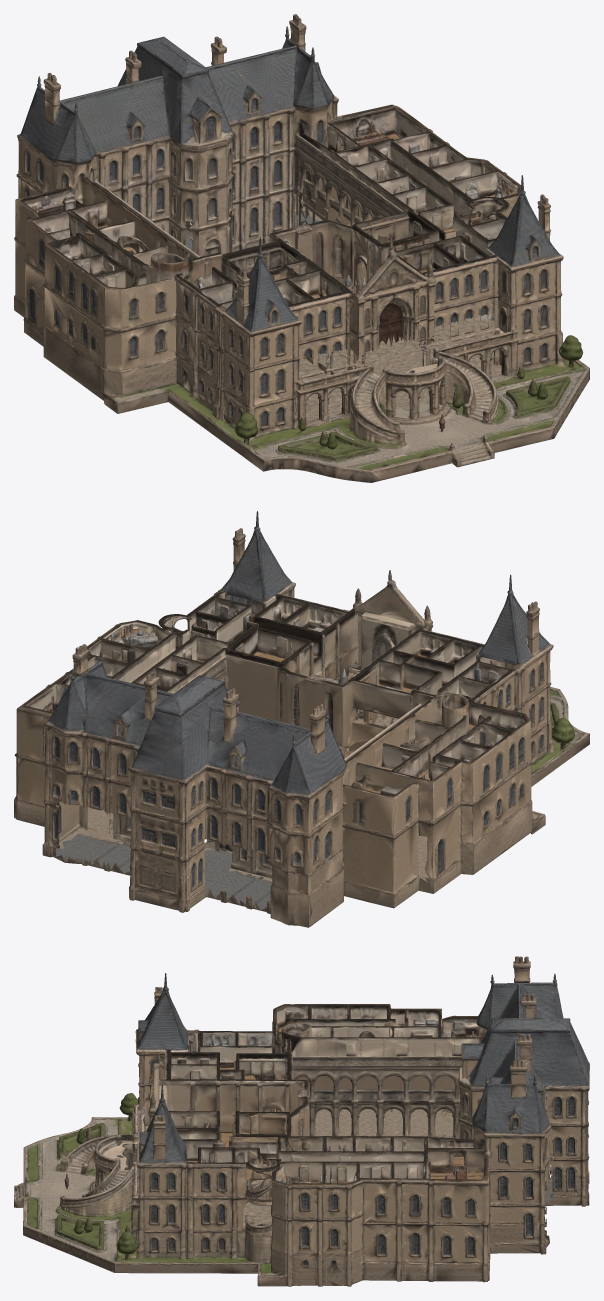
File: Meshy_AI_Make_a_map_for_my_gam_1022164321_texture.glb
The picture shows the model from 3 angles, top to bottom: view 1: azimuth 30°, elevation 25°; view 2: azimuth 150°, elevation 25°; view 3: azimuth 270°, elevation 25°; orthographic projection. The views are drawn at different scales.
Size of the model in its own units: 1.42 by 0.6745 by 1.9.
Materials: 1 (1 with a texture image).
